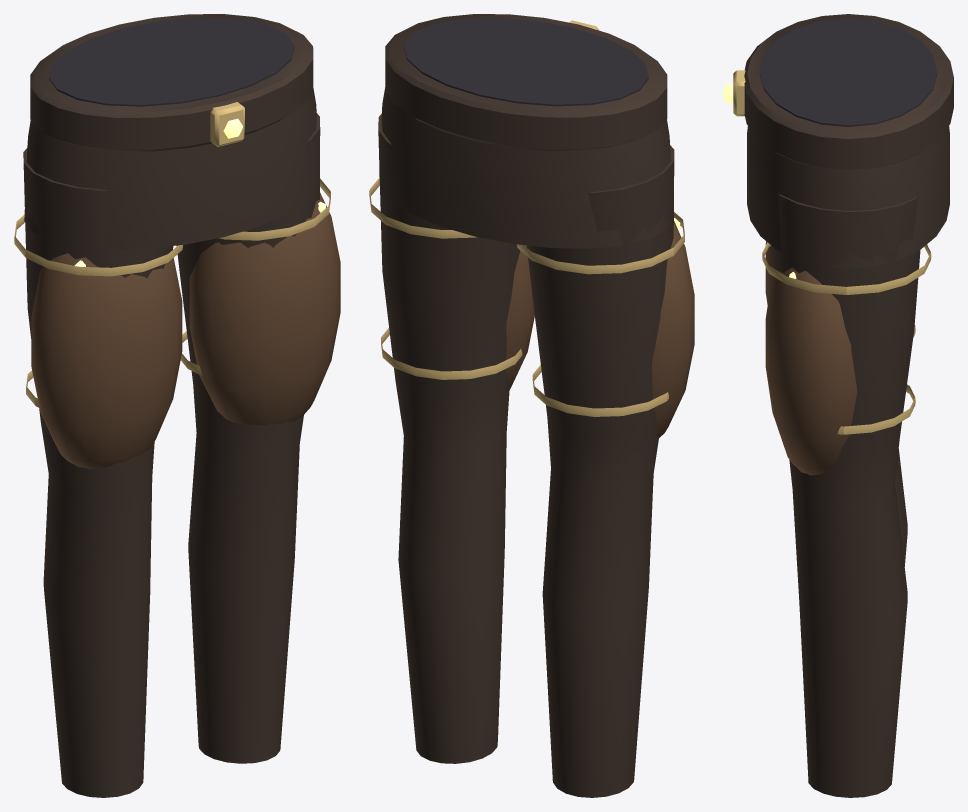
File: u_stormstriders.glb
3 views of the same model, side by side, from view 1: azimuth 30°, elevation 25°; view 2: azimuth 150°, elevation 25°; view 3: azimuth 270°, elevation 25° (orthographic). The views are drawn at different scales.
Visible parts, largest first — view 1: u_stormstriders; view 2: u_stormstriders; view 3: u_stormstriders.
Part boxes in pixels (x1=…): u_stormstriders: x1=14, y1=14, x2=340, y2=797; u_stormstriders: x1=369, y1=14, x2=694, y2=797; u_stormstriders: x1=723, y1=14, x2=953, y2=797.
Size of the model in its own units: 0.3131 by 0.7066 by 0.2182.
